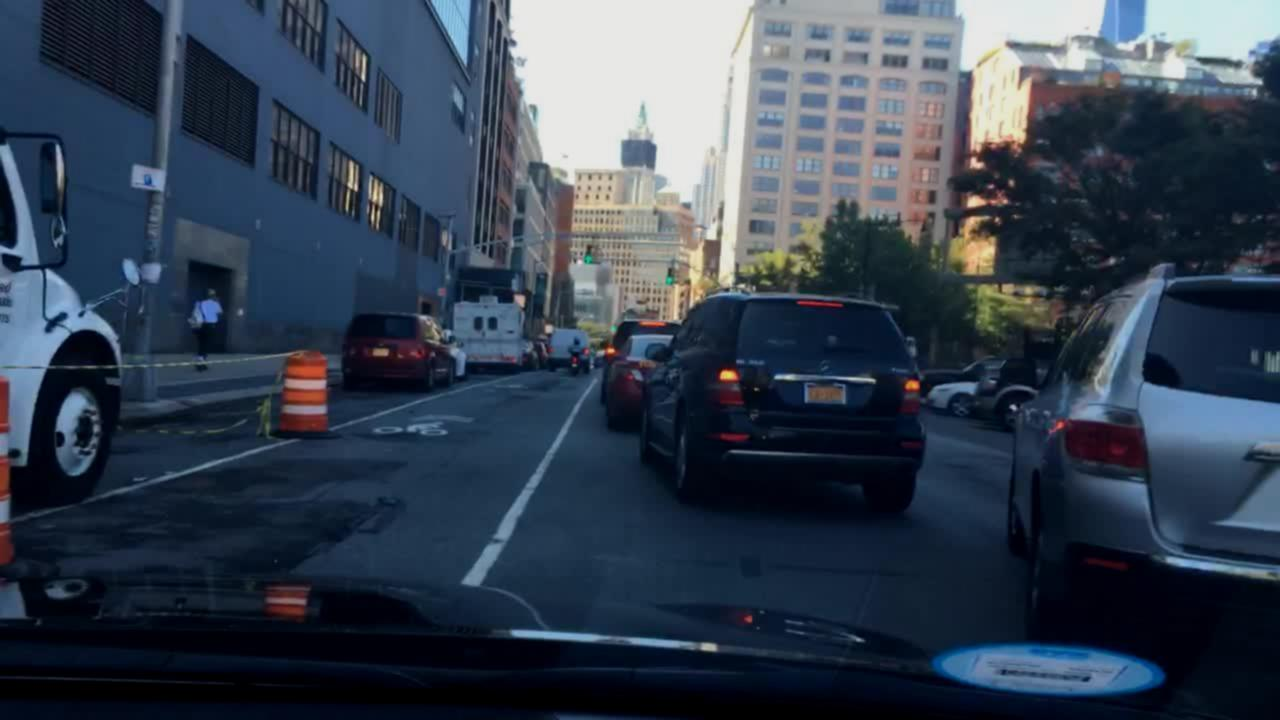Mercedes: (812, 357, 841, 376)
